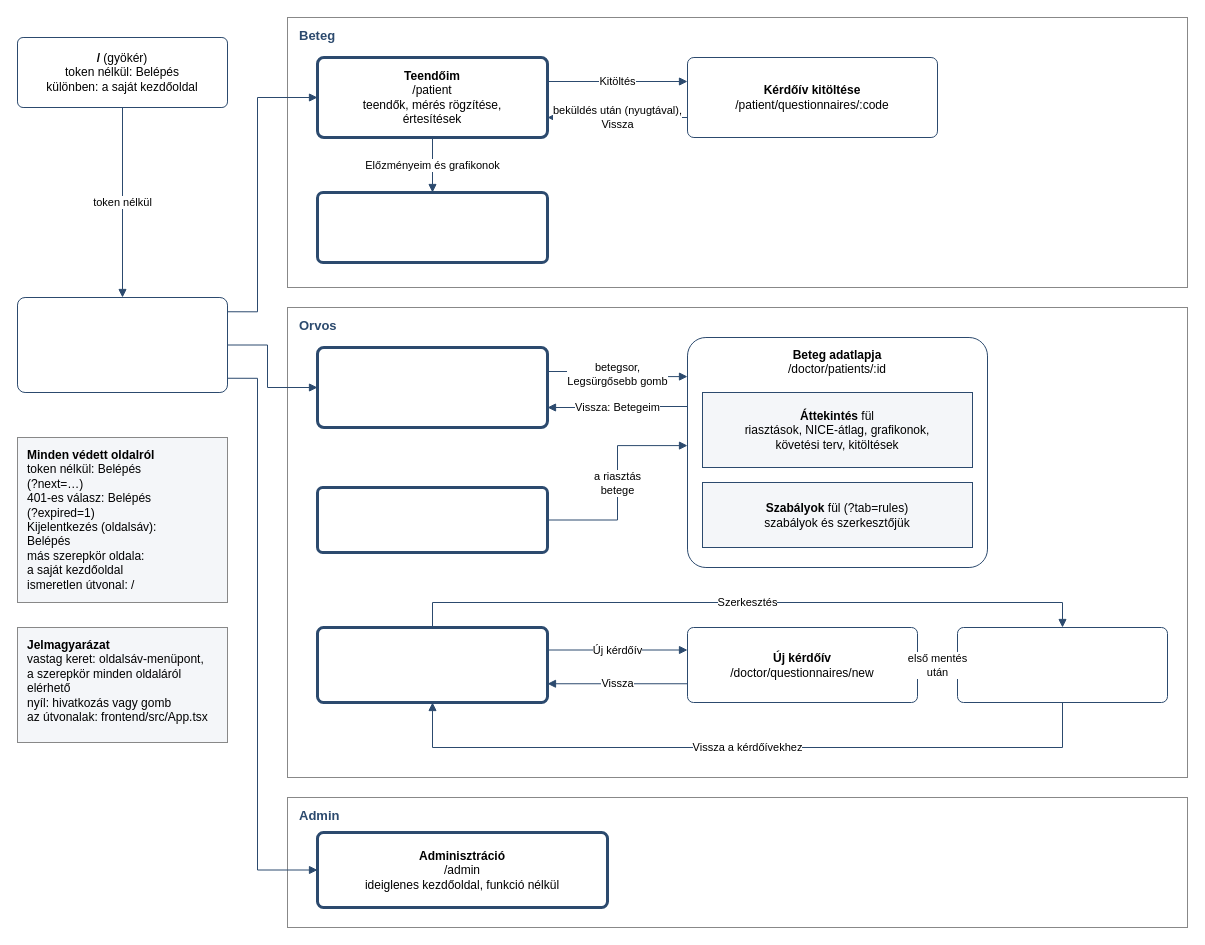
Image size: 1205x945. Some labels were removed from this diagram. The shapes that lost their labels are listed below. From the top down, each one's centre as x and y in pixels, then its label:
At (432,227): "Előzményeim /patient/history lista és grafikon".
At (122,344): "Belépés /login sikeres belépés után: a saját kezdőoldal vagy a ?next= oldal".
At (432,387): "Betegeim /doctor priorizált beteglista".
At (432,520): "Riasztások /doctor/alerts".
At (432,665): "Kérdőívek /doctor/questionnaires közös sablonok".
At (1062,664): "Kérdőív szerkesztése /doctor/questionnaires/:code mentés: új verzió".
